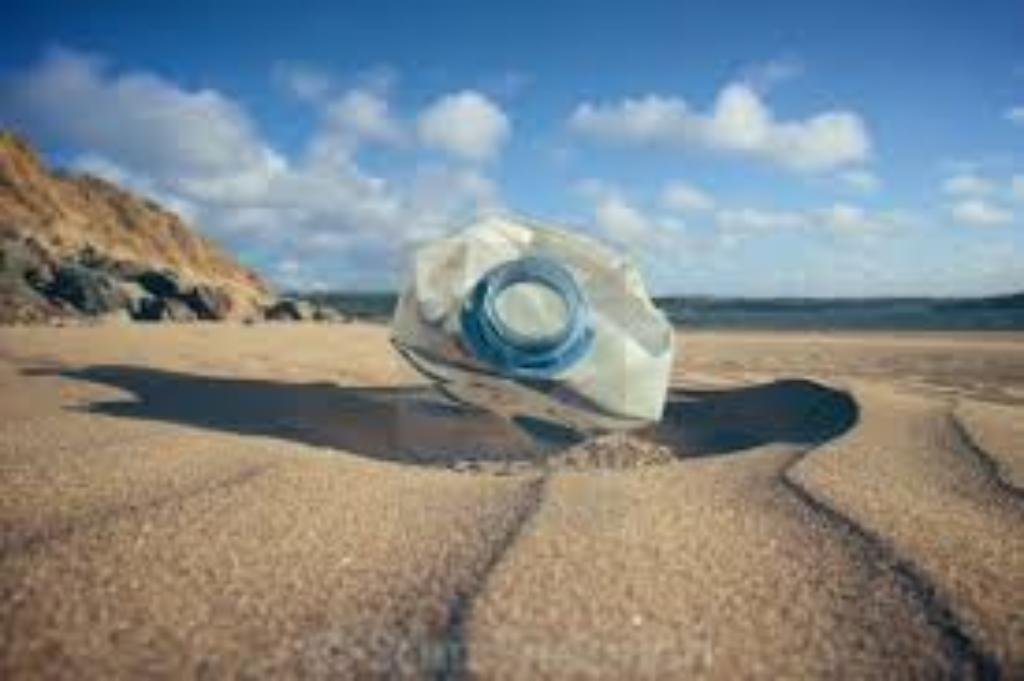garbage: (393, 214, 702, 456)
